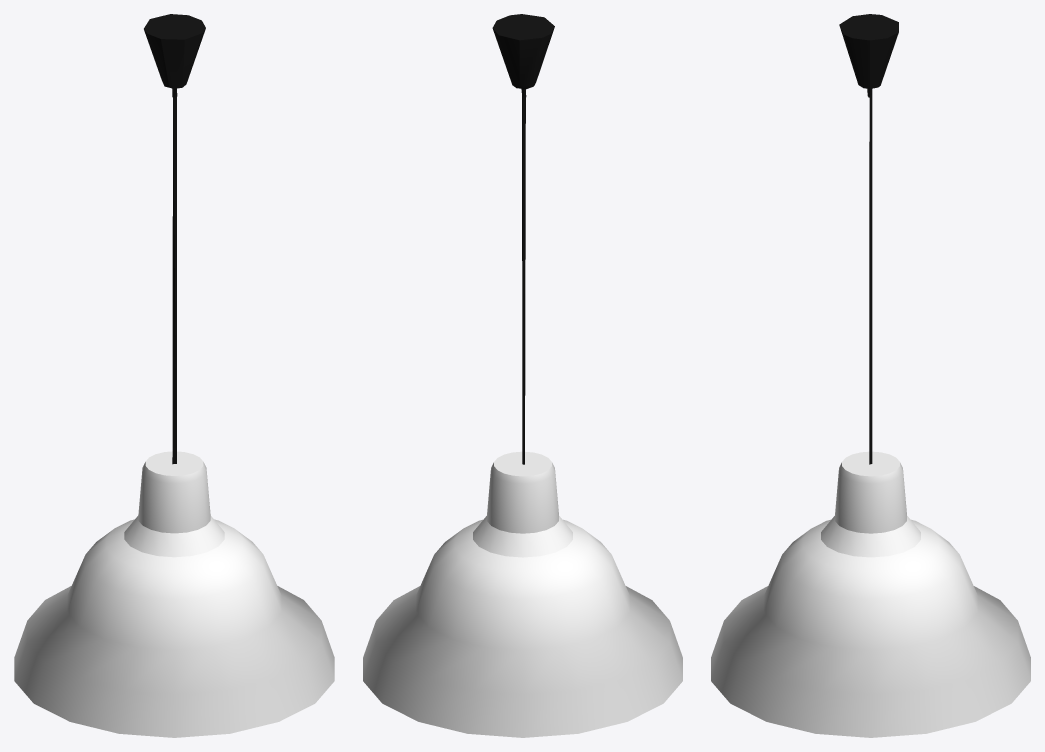
The model's file is Lamp.FBX.
The picture shows the model from 3 angles, left to right: view 1: azimuth 30°, elevation 25°; view 2: azimuth 150°, elevation 25°; view 3: azimuth 270°, elevation 25°; orthographic projection.
Visible parts, largest first — view 1: lamp; view 2: lamp; view 3: lamp.
Boxes of the visible parts, x1,y1,x2,y2 form: lamp: (14, 14, 334, 737); lamp: (363, 14, 682, 737); lamp: (711, 14, 1030, 737).
Size of the model in its own units: 36.58 by 79.78 by 36.03.
2 materials, 1 textured.
